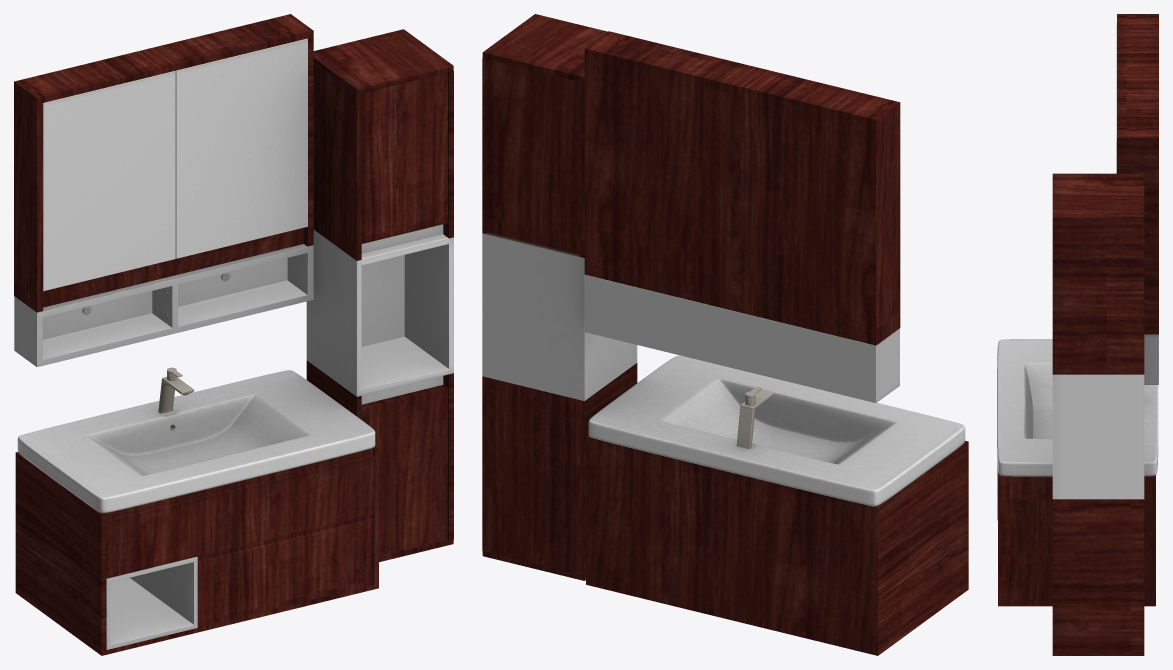
The model's file is Sinkwithtaps_006.gltf.
3 renders of one model, left to right at view 1: azimuth 30°, elevation 25°; view 2: azimuth 150°, elevation 25°; view 3: azimuth 270°, elevation 25°, orthographic. The views are drawn at different scales.
Visible parts, largest first — view 1: Sinkwithtaps_006; view 2: Sinkwithtaps_006; view 3: Sinkwithtaps_006.
Boxes of the visible parts, x1,y1,x2,y2 form: Sinkwithtaps_006: (14, 14, 453, 655); Sinkwithtaps_006: (482, 14, 968, 655); Sinkwithtaps_006: (997, 14, 1158, 655).
Size of the model in its own units: 0.1544 by 0.1981 by 0.0617.
1 material, 1 textured.
